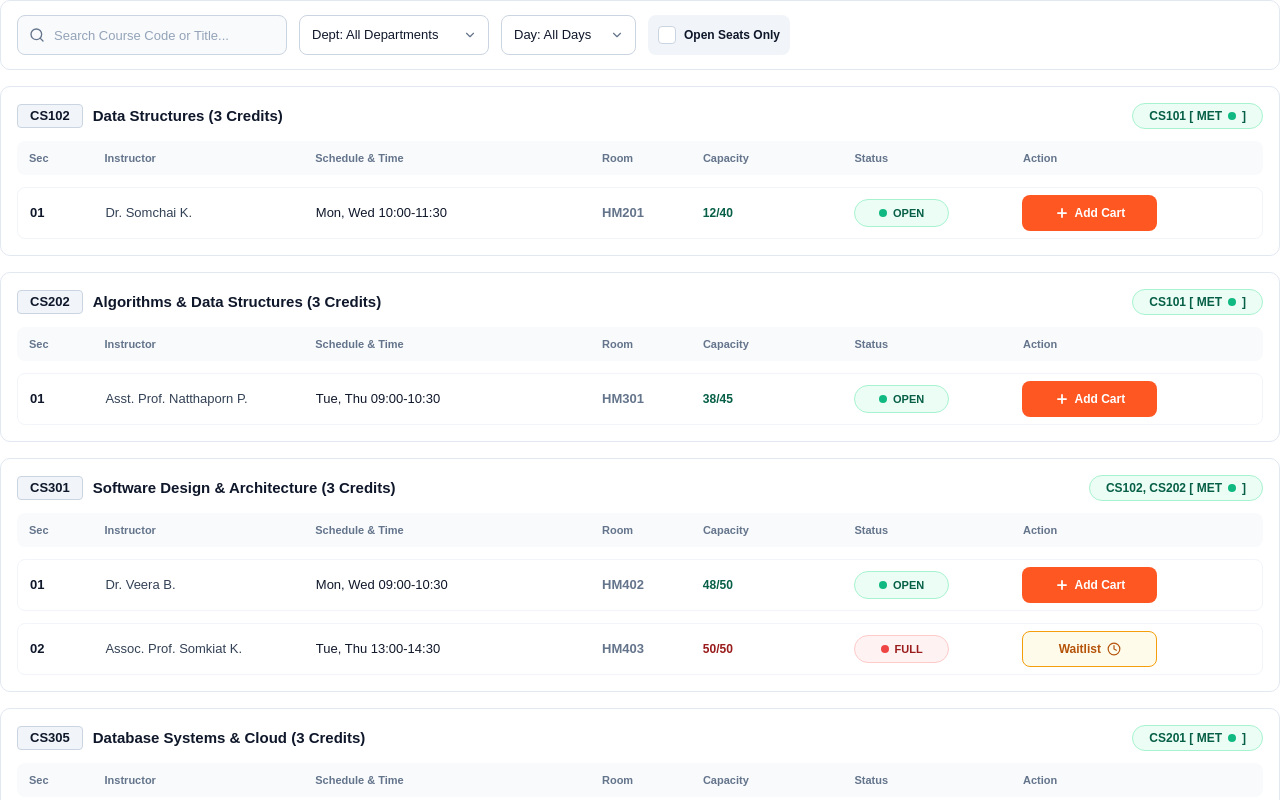
Test case: CatalogPane › refuses a section that overlaps an enrolled class
Click the button "Add Cart" in the row of "HM201".
click(1090, 213)  # box [1022, 195, 1157, 231]
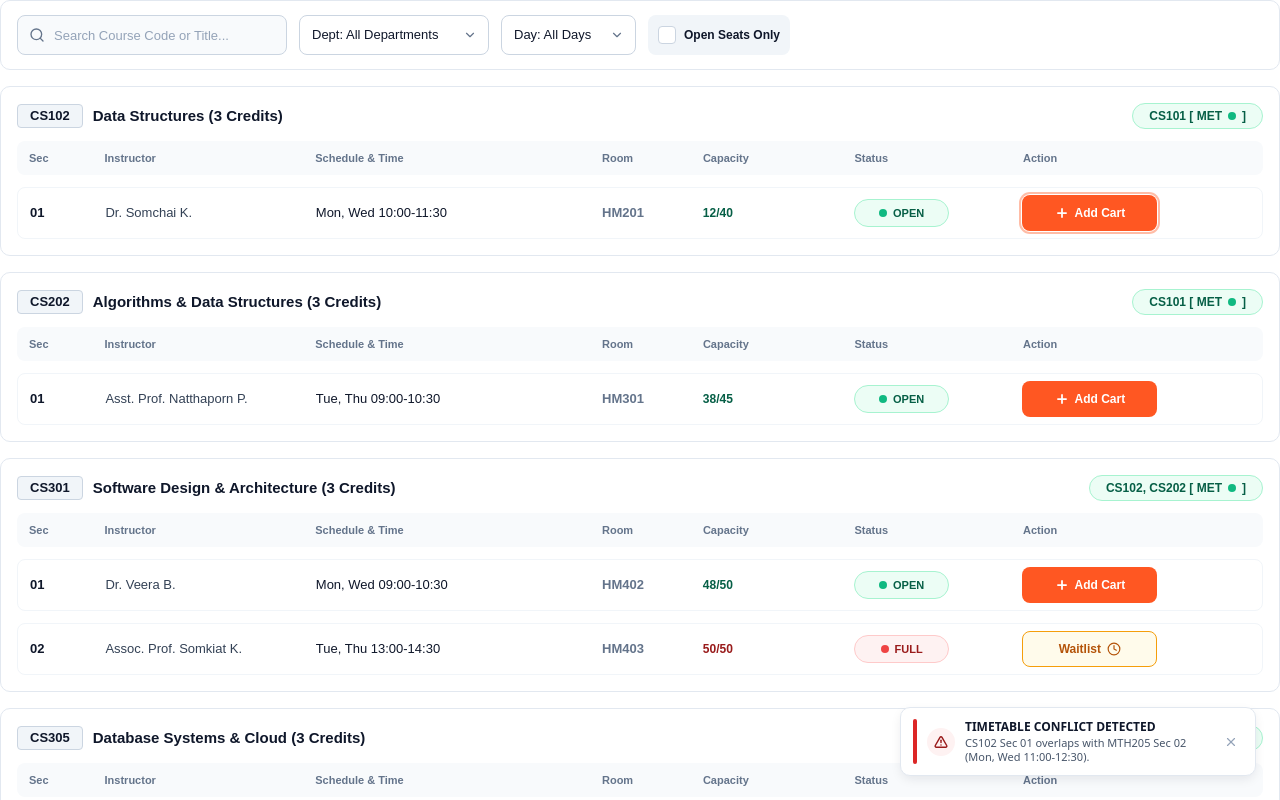
Now the text "Timetable conflict detected" is shown, box [965, 718, 1156, 735]
Now the text "CS102 Sec 01 overlaps with MTH205 Sec 02" is shown, box [965, 735, 1186, 764]
